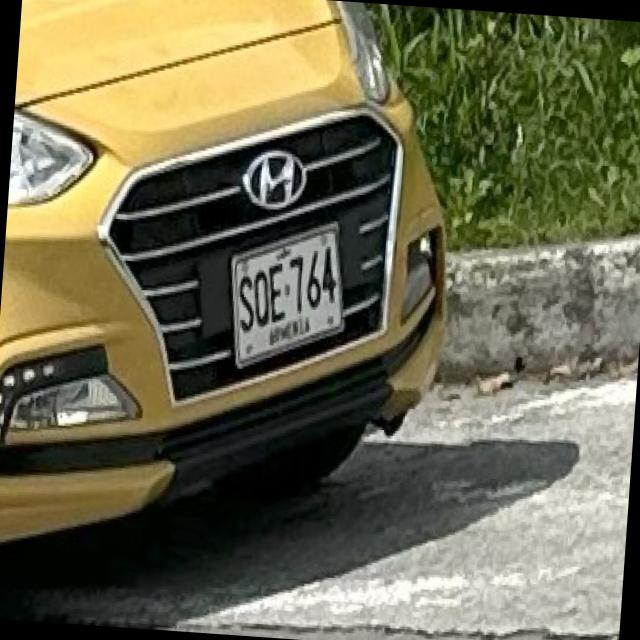number plate: (230, 220, 340, 363)
